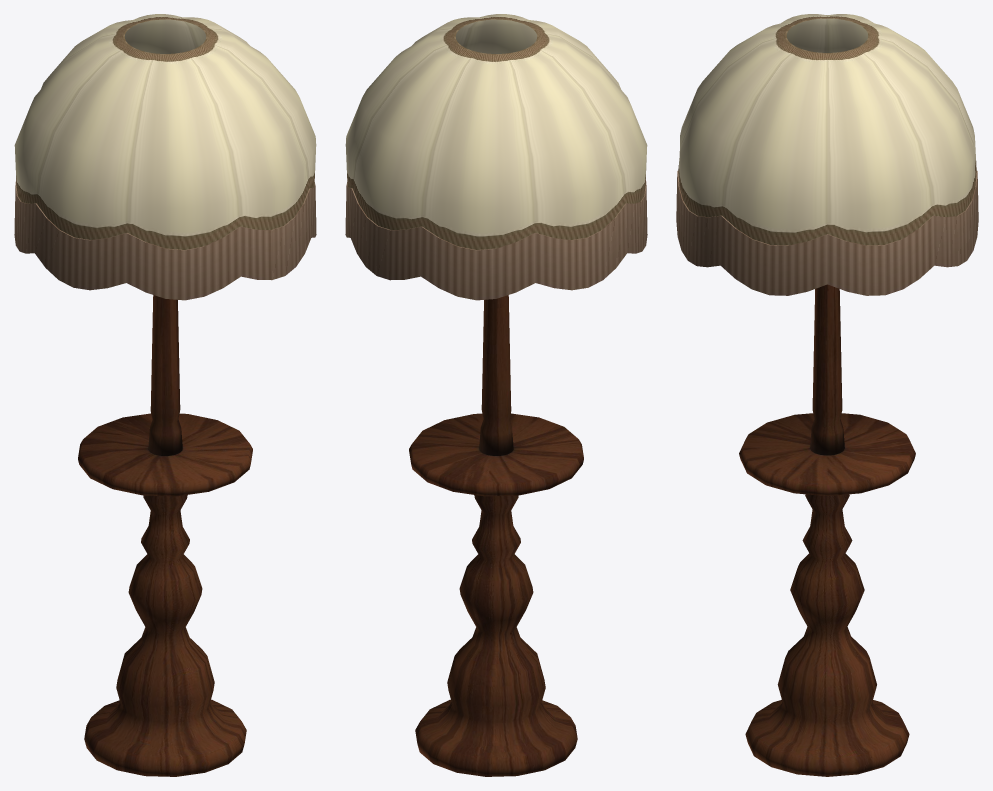
File: floor_lamp_classic_web.glb
3 renders of one model, left to right at view 1: azimuth 30°, elevation 25°; view 2: azimuth 150°, elevation 25°; view 3: azimuth 270°, elevation 25°, orthographic.
Visible parts, largest first — view 1: Glass_Shade_1, FloorLampClassic_Body, Glass_Fringe_1; view 2: Glass_Shade_1, FloorLampClassic_Body, Glass_Fringe_1; view 3: Glass_Shade_1, FloorLampClassic_Body, Glass_Fringe_1.
Part boxes in pixels (x1=…): Glass_Shade_1: x1=14, y1=14, x2=316, y2=249; FloorLampClassic_Body: x1=78, y1=295, x2=252, y2=776; Glass_Fringe_1: x1=14, y1=178, x2=316, y2=300; Glass_Shade_1: x1=345, y1=14, x2=647, y2=249; FloorLampClassic_Body: x1=409, y1=295, x2=583, y2=776; Glass_Fringe_1: x1=345, y1=179, x2=647, y2=300; Glass_Shade_1: x1=678, y1=14, x2=976, y2=245; FloorLampClassic_Body: x1=739, y1=284, x2=915, y2=776; Glass_Fringe_1: x1=676, y1=171, x2=978, y2=295.
Size of the model in its own units: 0.608 by 1.57 by 0.608.
Materials: 3 (3 with a texture image).
